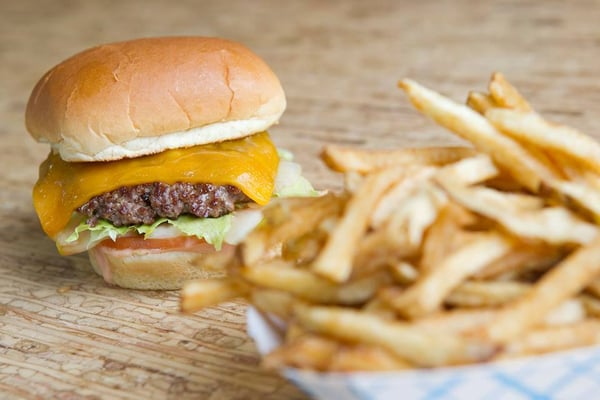soup: (25, 35, 292, 295)
